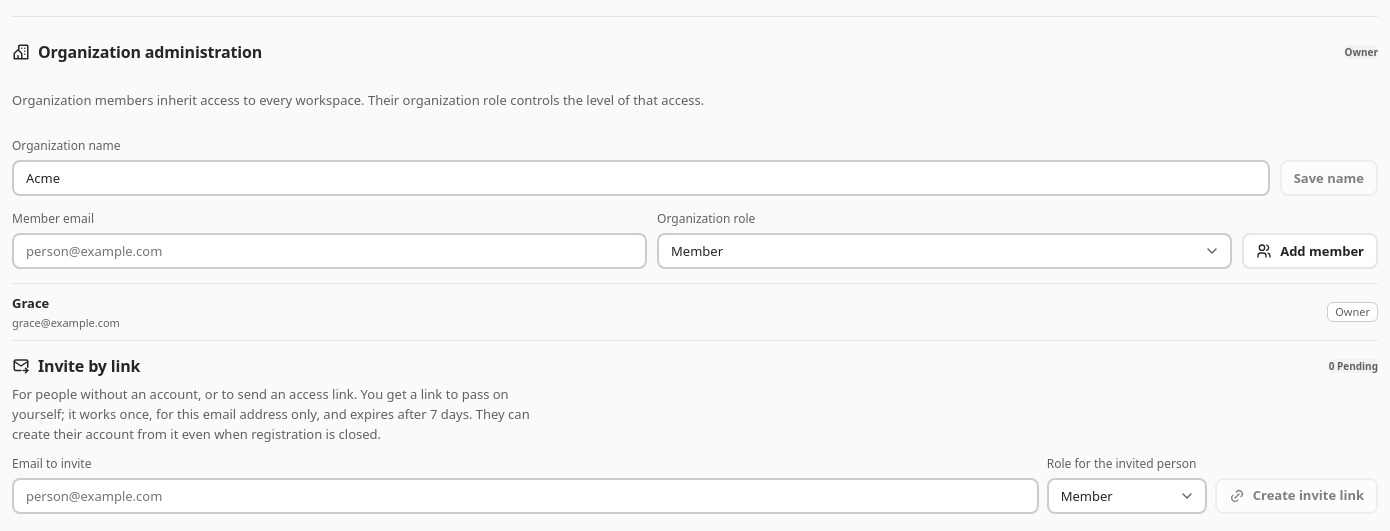
organization administration on the shared pieces › keeps Save name off until the name changes
Check: the text "Owner" is shown, box x1=1327 y1=302 x2=1378 y2=322
Check: the button "Save name" is disabled, box x1=1280 y1=160 x2=1378 y2=196
Replace the text in the field labelled "Organization name" with "Acme Engineering" at (641, 178), box x1=12 y1=160 x2=1270 y2=196
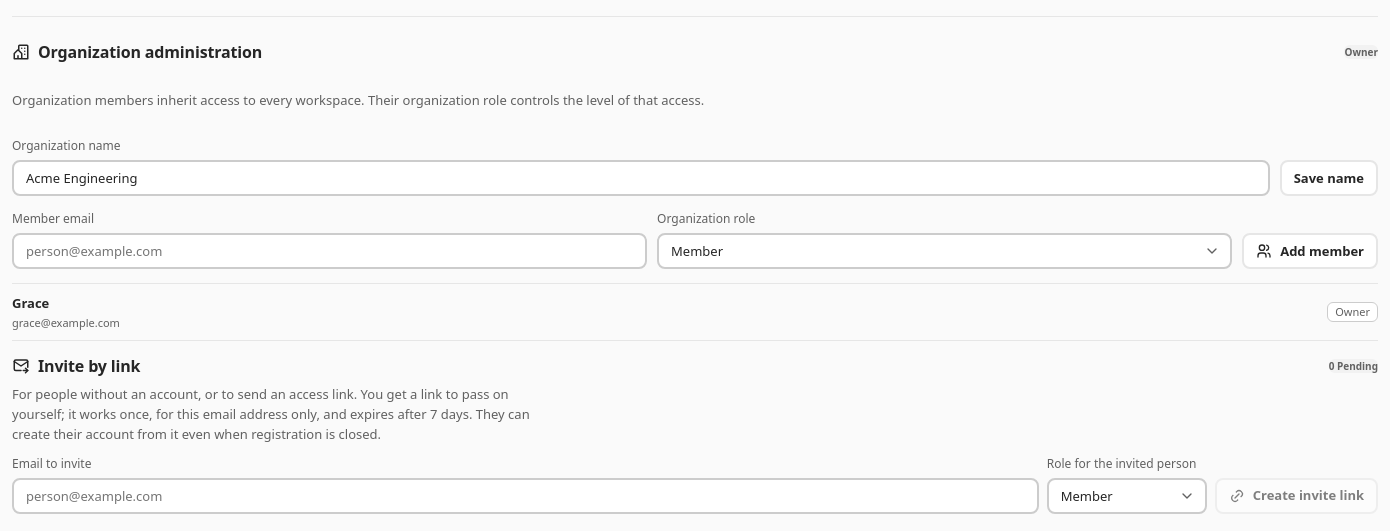
Check: the button "Save name" is enabled, box x1=1280 y1=160 x2=1378 y2=196
